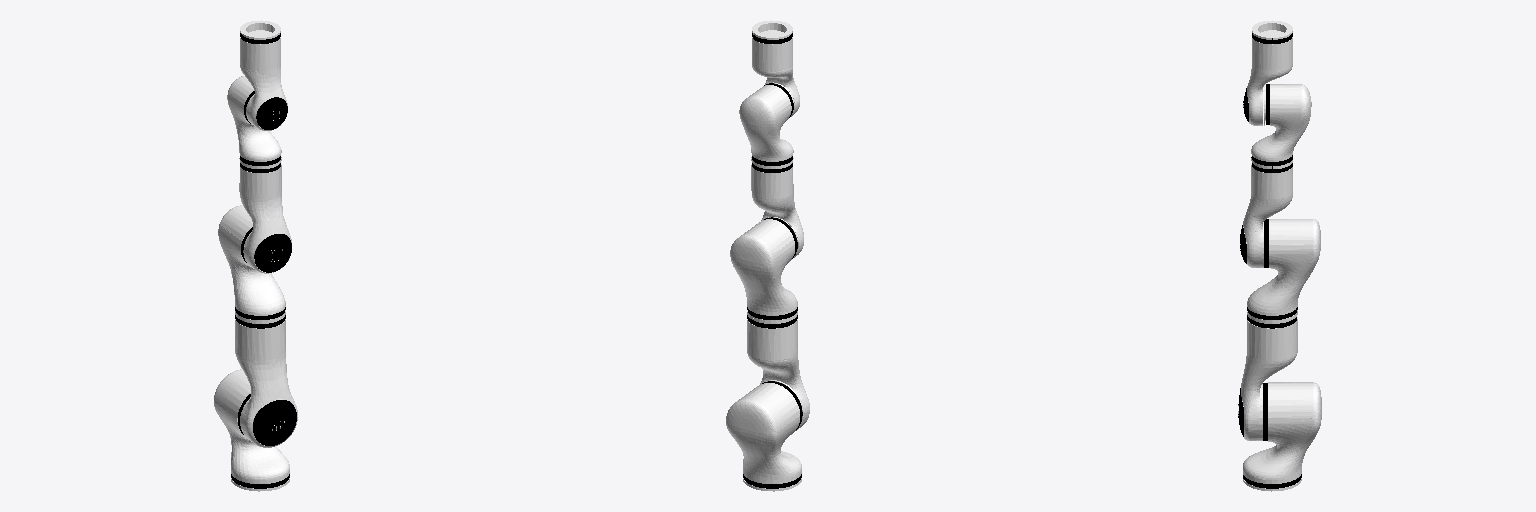
URDF robot description (rm_65_6f_description):
<?xml version='1.0' encoding='UTF-8'?>
<!-- This URDF was automatically created by SolidWorks to URDF Exporter! Originally created by Stephen Brawner (brawner@gmail.com)
     Commit Version: 1.6.0-1-g15f4949  Build Version: 1.6.7594.29634
     For more information, please see http://wiki.ros.org/sw_urdf_exporter-->
<robot name="rm_65_6f_description">
  <link name="base_link">
    <inertial>
      <origin xyz="-0.00049987 -5.2709E-05 0.060019" rpy="0 0 0"/>
      <mass value="1.862"/>
      <inertia ixx="0.0017232" ixy="-3.1058E-06" ixz="3.7924E-05" iyy="0.0017051" iyz="-1.3691E-06" izz="0.00090158"/>
    </inertial>
    <visual>
      <origin rpy="0 0 0" xyz="0 0 0"/>
      <geometry>
        <mesh filename="package://rm_description/meshes/dae/rm65/base_link.dae"/>
      </geometry>
    </visual>
    <collision>
      <origin rpy="0 0 0" xyz="0 0 0"/>
      <geometry>
        <mesh filename="package://rm_description/meshes/RM65/base_link.STL"/>
      </geometry>
    </collision>
  </link>
  <link name="Link1">
    <inertial>
      <origin xyz="0.000941 0.007803 -0.10744" rpy="0 0 0"/>
      <mass value="1.51"/>
      <inertia ixx="0.002662223" ixy="-0.000026849" ixz="-0.000013775" iyy="0.002331685" iyz="-0.000078667" izz="0.001663712"/>
    </inertial>
    <visual>
      <origin
        xyz="0 0 0"
        rpy="0 0 0" />
      <geometry>
        <mesh
          filename="package://rm_description/meshes/dae/rm65/link_1.dae" />
      </geometry>
    </visual>
    <collision>
      <origin rpy="0 0 0" xyz="0 0 0"/>
      <geometry>
        <mesh filename="package://rm_description/meshes/RM65/link1.STL"/>
      </geometry>
    </collision>
  </link>
  <joint name="joint1" type="revolute">
    <origin xyz="0 0 0.2405" rpy="0 0 0"/>
    <parent link="base_link"/>
    <child link="Link1"/>
    <axis xyz="0 0 1"/>
    <limit lower="-3.106" upper="3.106" effort="60" velocity="3.14"/>
  </joint>
  <link name="Link2">
    <inertial>
      <origin xyz="0.183722 0.000103 -0.001665" rpy="0 0 0"/>
      <mass value="1.653"/>
      <inertia ixx="0.001706953" ixy="-0.000006995" ixz="0.001809254" iyy="0.014713776" iyz="0.000006223" izz="0.014239805"/>
    </inertial>
    <visual>
      <origin
        xyz="0 0 0"
        rpy="0 0 0" />
      <geometry>
        <mesh
          filename="package://rm_description/meshes/dae/rm65/link_2.dae" />
      </geometry>
    </visual>
    <collision>
      <origin rpy="0 0 0" xyz="0 0 0"/>
      <geometry>
        <mesh filename="package://rm_description/meshes/RM65/link2.STL"/>
      </geometry>
    </collision>
  </link>
  <joint name="joint2" type="revolute">
    <origin rpy="-1.57079265345464 -1.57079265358979 3.14159265345464" xyz="0 0 0"/>
    <parent link="Link1"/>
    <child link="Link2"/>
    <axis xyz="0 0 1"/>
    <limit lower="-2.2689" upper="2.2689" effort="60" velocity="3.14"/>
  </joint>
  <link name="Link3">
    <inertial>
      <origin xyz="0.000029 -0.090105 0.004039" rpy="0 0 0"/>
      <mass value="0.726"/>
      <inertia ixx="0.001350874" ixy="0.000001069" ixz="-0.000000228" iyy="0.000360021" iyz="-0.000219904" izz="0.001331598"/>
    </inertial>
    <visual>
      <origin
        xyz="0 0 0"
        rpy="0 0 0" />
      <geometry>
        <mesh
          filename="package://rm_description/meshes/dae/rm65/link_3.dae" />
      </geometry>
    </visual>
    <collision>
      <origin rpy="0 0 0" xyz="0 0 0"/>
      <geometry>
        <mesh filename="package://rm_description/meshes/RM65/link3.STL"/>
      </geometry>
    </collision>
  </link>
  <joint name="joint3" type="revolute">
    <origin xyz="0.256 0 0" rpy="0 0 1.5708"/>
    <parent link="Link2"/>
    <child link="Link3"/>
    <axis xyz="0 0 1"/>
    <limit lower="-2.356" upper="2.356" effort="30" velocity="3.14"/>
  </joint>
  <link name="Link4">
    <inertial>
      <origin xyz="0.000007 -0.009486 -0.008041" rpy="0 0 0"/>
      <mass value="0.671"/>
      <inertia ixx="0.000690221" ixy="-0.000000865" ixz="-0.000000692" iyy="0.000552834" iyz="0.000016411" izz="0.000425835"/>
    </inertial>
    <visual>
      <origin
        xyz="0 0 0"
        rpy="0 0 0" />
      <geometry>
        <mesh
          filename="package://rm_description/meshes/dae/rm65/link_4.dae" />
      </geometry>
    </visual>
    <collision>
      <origin rpy="0 0 0" xyz="0 0 0"/>
      <geometry>
        <mesh filename="package://rm_description/meshes/RM65/link4.STL"/>
      </geometry>
    </collision>
  </link>
  <joint name="joint4" type="revolute">
    <origin xyz="0 -0.21 0" rpy="1.5708 0 0"/>
    <parent link="Link3"/>
    <child link="Link4"/>
    <axis xyz="0 0 1"/>
    <limit lower="-3.106" upper="3.106" effort="10" velocity="3.14"/>
  </joint>
  <link name="Link5">
    <inertial>
      <origin xyz="0.000032 -0.083769 0.002326" rpy="0 0 0"/>
      <mass value="0.647"/>
      <inertia ixx="0.000834052" ixy="0.000000952" ixz="-0.000000257" iyy="0.000281767" iyz="-0.000111750" izz="0.000821714"/>
    </inertial>
    <visual>
      <origin
        xyz="0 0 0"
        rpy="0 0 0" />
      <geometry>
        <mesh
          filename="package://rm_description/meshes/dae/rm65/link_5.dae" />
      </geometry>
    </visual>
    <collision>
      <origin rpy="0 0 0" xyz="0 0 0"/>
      <geometry>
        <mesh filename="package://rm_description/meshes/RM65/link5.STL"/>
      </geometry>
    </collision>
  </link>
  <joint name="joint5" type="revolute">
    <origin xyz="0 0 0" rpy="-1.5708 0 0"/>
    <parent link="Link4"/>
    <child link="Link5"/>
    <axis xyz="0 0 1"/>
    <limit lower="-2.234" upper="2.234" effort="10" velocity="3.14"/>
  </joint>
  <link name="Link6">
    <inertial>
      <origin rpy="0 0 0" xyz="0.00032231 -0.00017819 -0.028676"/>
      <mass value="0.14433"/>
      <inertia ixx="3.6119E-05" ixy="-1.3242E-06" ixz="-3.2733E-08" iyy="3.4626E-05" iyz="7.6661E-09" izz="6.1463E-05"/>
    </inertial>
    <visual>
      <origin
        xyz="0 0 0"
        rpy="0 0 0" />
      <geometry>
        <mesh
          filename="package://rm_description/meshes/dae/rm65/link_6_f.dae" />
      </geometry>
    </visual>
    <collision>
      <origin xyz="0 0 0" rpy="0 0 0"/>
      <geometry>
        <mesh filename="package://rm_description/meshes/RM65_6F/Link6.STL"/>
      </geometry>
    </collision>
  </link>
  <joint name="joint6" type="revolute">
    <origin xyz="0 -0.1725 0" rpy="1.5708 0 0"/>
    <parent link="Link5"/>
    <child link="Link6"/>
    <axis xyz="0 0 1"/>
    <limit effort="100" lower="-6.283" upper="6.283" velocity="1"/>
  </joint>
</robot>

--- Render facts (derived) ---
The picture shows the robot from 3 angles, left to right: view 1: azimuth 30°, elevation 25°; view 2: azimuth 150°, elevation 25°; view 3: azimuth 270°, elevation 25°; orthographic projection.
Robot: rm_65_6f_description — 7 links, 6 joints (6 revolute); root link base_link; default pose: every joint at zero.
Visible links, largest first — view 1: Link2, Link3, Link1, Link5, Link4; view 2: Link2, Link1, Link4, Link5, Link3; view 3: Link2, Link1, Link4, Link3, Link5.
Link boxes in pixels (x1=…): Link2: x1=218, y1=205, x2=297, y2=447; Link3: x1=239, y1=158, x2=291, y2=273; Link1: x1=214, y1=369, x2=289, y2=491; Link5: x1=240, y1=20, x2=287, y2=130; Link4: x1=227, y1=76, x2=281, y2=167; Link2: x1=730, y1=217, x2=809, y2=427; Link1: x1=726, y1=380, x2=803, y2=491; Link4: x1=739, y1=82, x2=794, y2=166; Link5: x1=752, y1=20, x2=799, y2=116; Link3: x1=751, y1=158, x2=803, y2=257; Link2: x1=1238, y1=219, x2=1320, y2=440; Link1: x1=1243, y1=382, x2=1321, y2=491; Link4: x1=1251, y1=84, x2=1311, y2=167; Link3: x1=1240, y1=159, x2=1292, y2=267; Link5: x1=1243, y1=20, x2=1292, y2=125.
Bounding box of the posed robot: 0.082 × 0.115 × 0.683 m (x, y, z).
Meshes: 7 distinct files referenced, 5 mesh visuals loaded (5 Collada DAE); not drawn: 2 (reference not matched to a file when rendering).
